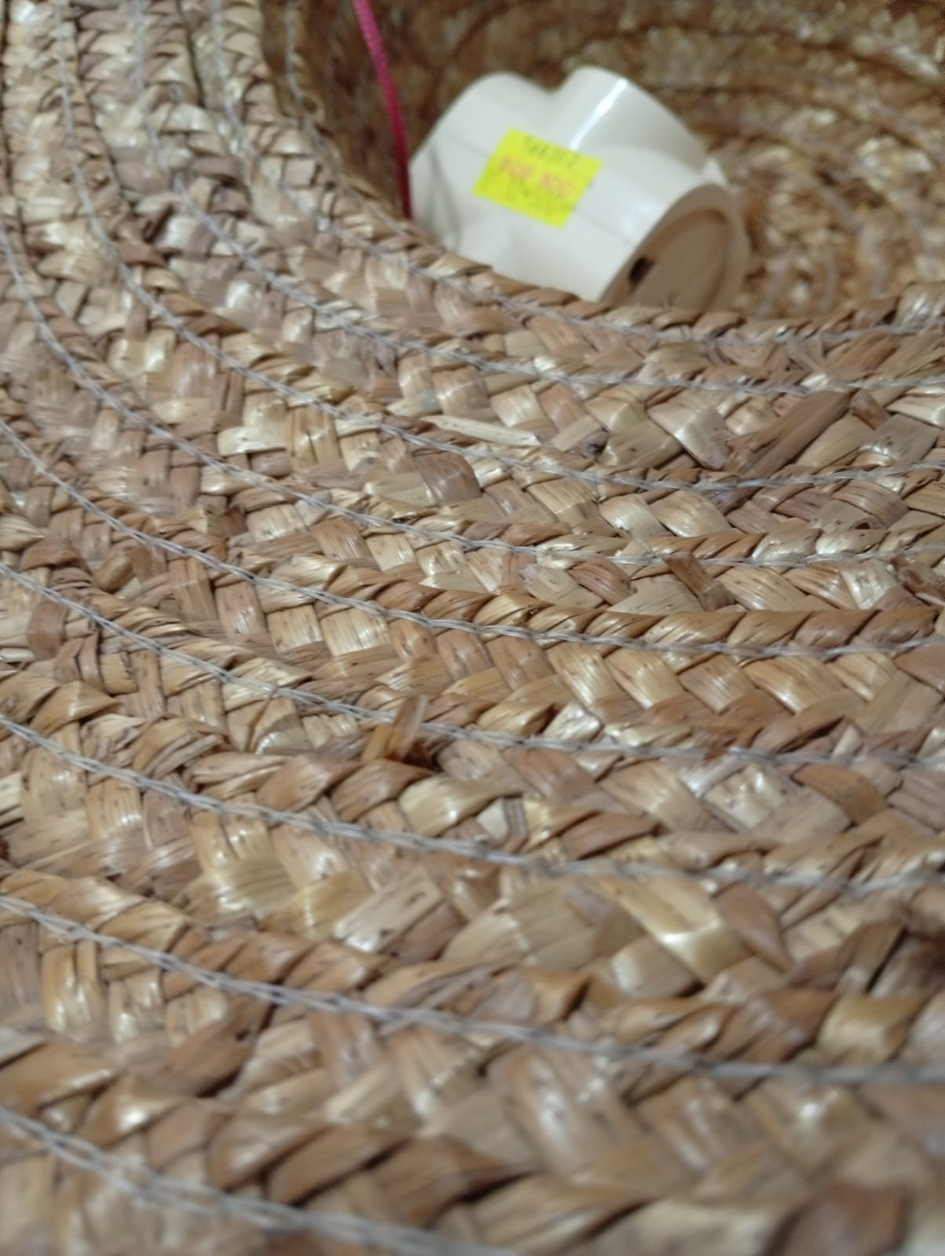Colokan: (389, 45, 790, 346)
